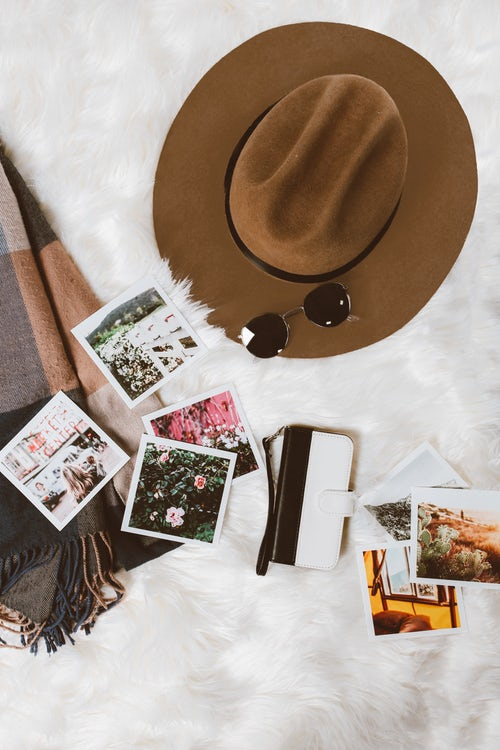phone: (269, 423, 363, 578)
